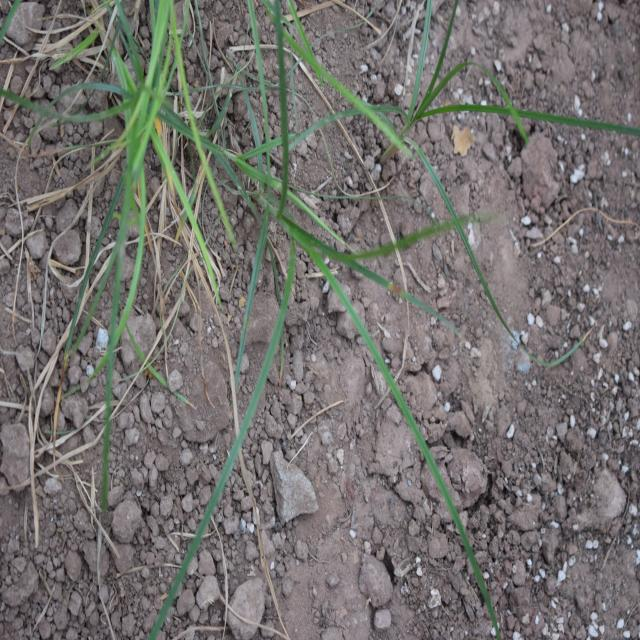sedge: (178, 87, 549, 617)
